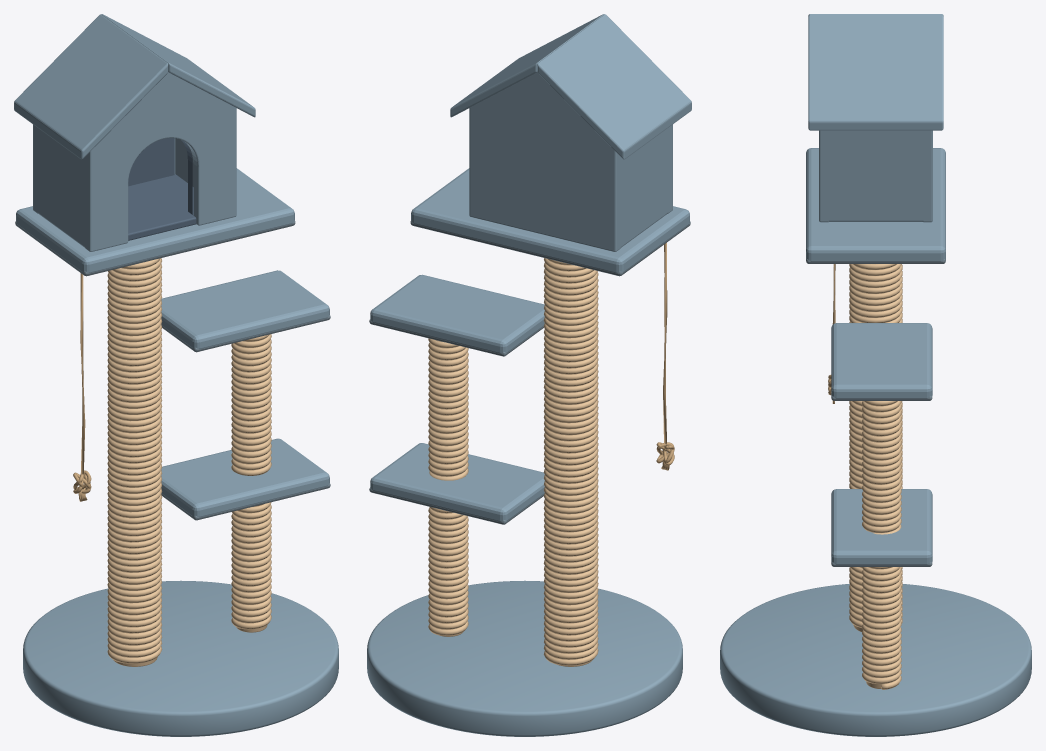
Rendered from tree.glb.
The picture shows the model from 3 angles, left to right: view 1: azimuth 30°, elevation 25°; view 2: azimuth 150°, elevation 25°; view 3: azimuth 270°, elevation 25°; orthographic projection.
Visible parts, largest first — view 1: base_disc, main_rope_coil, house_front_arch, roof_left, secondary_rope_coil, middle_platform, upper_platform, lower_platform, house_left_wall, house_floor, roof_right, house_inside_back (+3 smaller); view 2: base_disc, main_rope_coil, house_back_wall, roof_left, secondary_rope_coil, middle_platform, upper_platform, lower_platform, house_left_wall, roof_right, upper_platform_edge, hanging_string; view 3: base_disc, roof_right, secondary_rope_coil, house_right_wall, middle_platform, upper_platform, lower_platform, main_rope_coil, house_back_wall, house_front_arch.
Boxes of the visible parts, box(x1,y1,x2,y2) form: base_disc: box(23, 580, 338, 736); main_rope_coil: box(107, 258, 162, 663); house_front_arch: box(85, 72, 236, 251); roof_left: box(14, 14, 168, 159); secondary_rope_coil: box(231, 334, 271, 629); middle_platform: box(161, 270, 329, 348); upper_platform: box(16, 168, 294, 272); lower_platform: box(161, 438, 329, 517); house_left_wall: box(34, 125, 88, 249); house_floor: box(128, 174, 196, 240); roof_right: box(101, 14, 255, 117); house_inside_back: box(128, 138, 174, 186); base_disc: box(367, 580, 682, 736); main_rope_coil: box(543, 258, 598, 665); house_back_wall: box(469, 72, 620, 251); roof_left: box(537, 14, 691, 159); secondary_rope_coil: box(428, 338, 468, 635); middle_platform: box(370, 274, 544, 353); upper_platform: box(411, 168, 689, 272); lower_platform: box(370, 443, 544, 521); house_left_wall: box(617, 125, 671, 247); roof_right: box(450, 14, 604, 117); upper_platform_edge: box(410, 220, 690, 276); hanging_string: box(663, 243, 667, 443); base_disc: box(720, 584, 1031, 736); roof_right: box(808, 14, 943, 130); secondary_rope_coil: box(862, 401, 901, 689); house_right_wall: box(821, 130, 930, 221); middle_platform: box(831, 323, 932, 398); upper_platform: box(806, 148, 945, 261); lower_platform: box(831, 489, 932, 564); main_rope_coil: box(849, 264, 902, 627); house_back_wall: box(922, 130, 932, 222); house_front_arch: box(819, 130, 829, 222).
Size of the model in its own units: 0.8 by 1.8 by 0.8.
